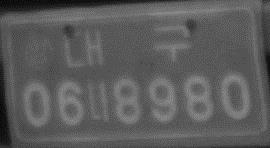0: (219, 72, 251, 120), (23, 81, 50, 127)
6: (57, 81, 85, 128)
8: (113, 76, 142, 126), (183, 75, 213, 123)
9: (147, 75, 179, 124)
나: (84, 78, 114, 125)
대구_D: (62, 22, 193, 70)
영: (20, 33, 58, 78)
